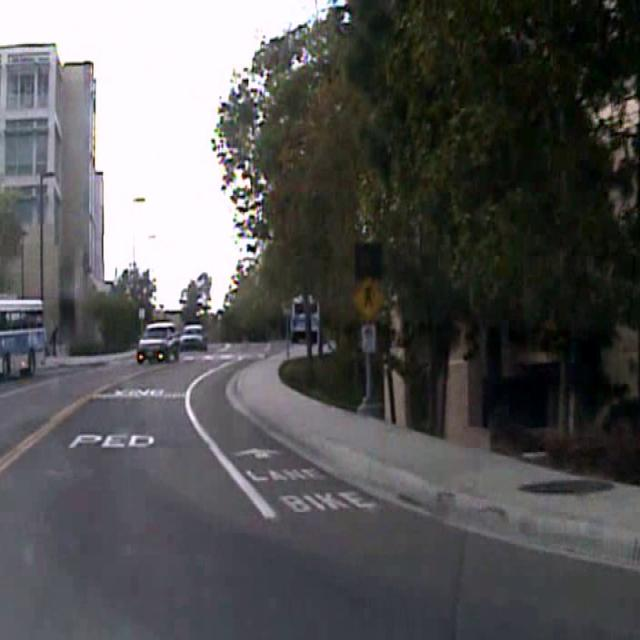pedestrianCrossing: (351, 275, 384, 321)
